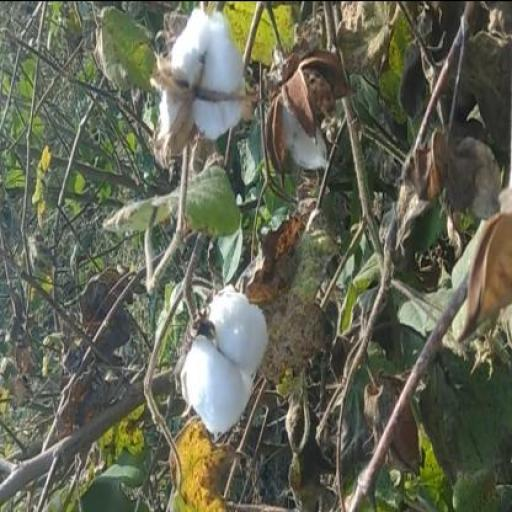cotton_ready: (172, 250, 286, 459), (148, 0, 270, 186)
